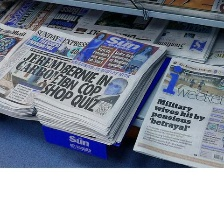news_paper: (0, 24, 168, 139), (130, 52, 224, 168), (68, 1, 173, 45), (0, 0, 105, 42), (153, 16, 215, 64), (0, 18, 40, 84), (203, 28, 224, 67)
